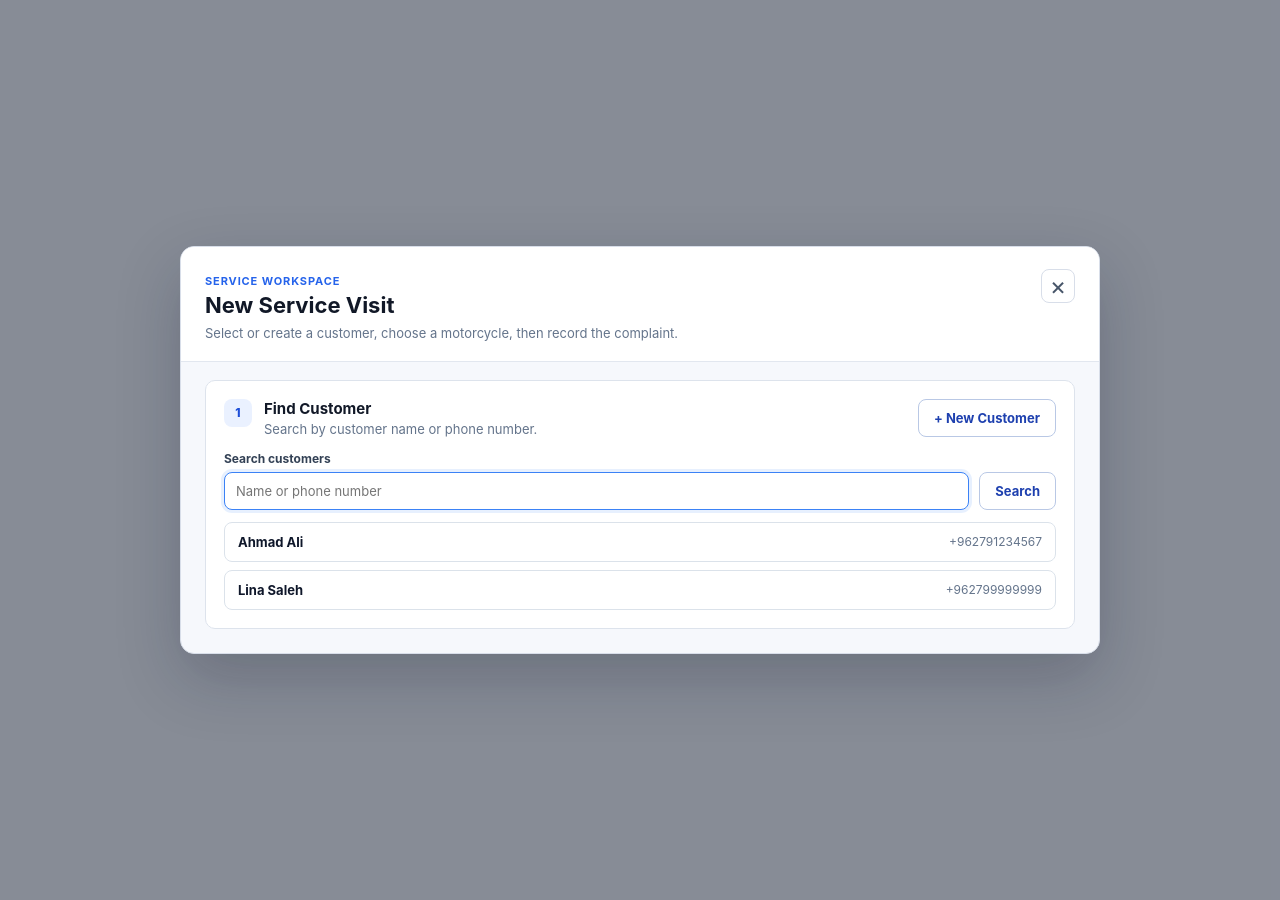
Test: NewServiceVisitDialog › loads the exact Customer's Motorcycles and shows a clear zero-Motorcycle state
The image size is (1280, 900).
Click the button "Ahmad Ali +962791234567" at (271, 542), box [224, 522, 1056, 562]
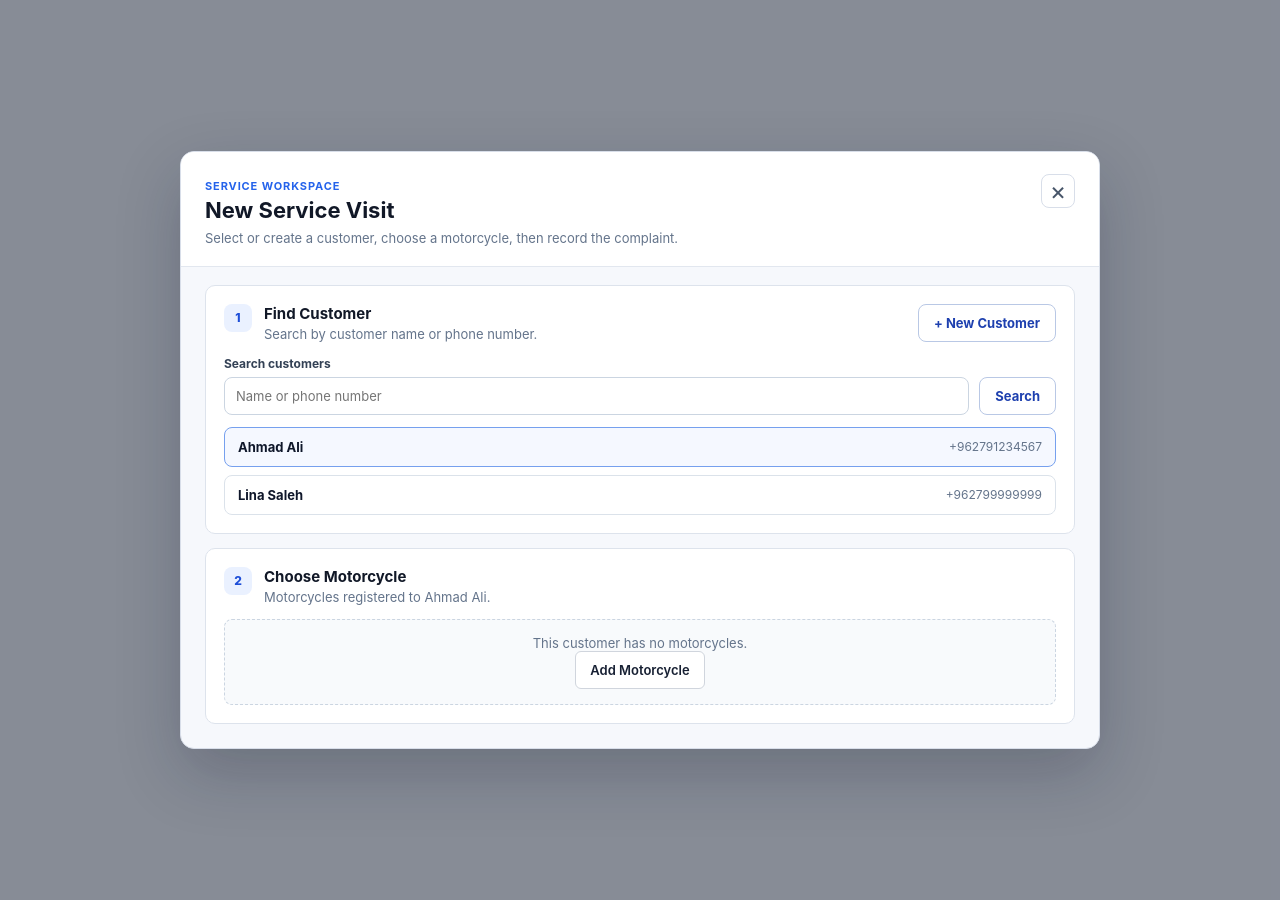
expect the text "This customer has no motorcycles." is shown: met, box [533, 635, 747, 651]
